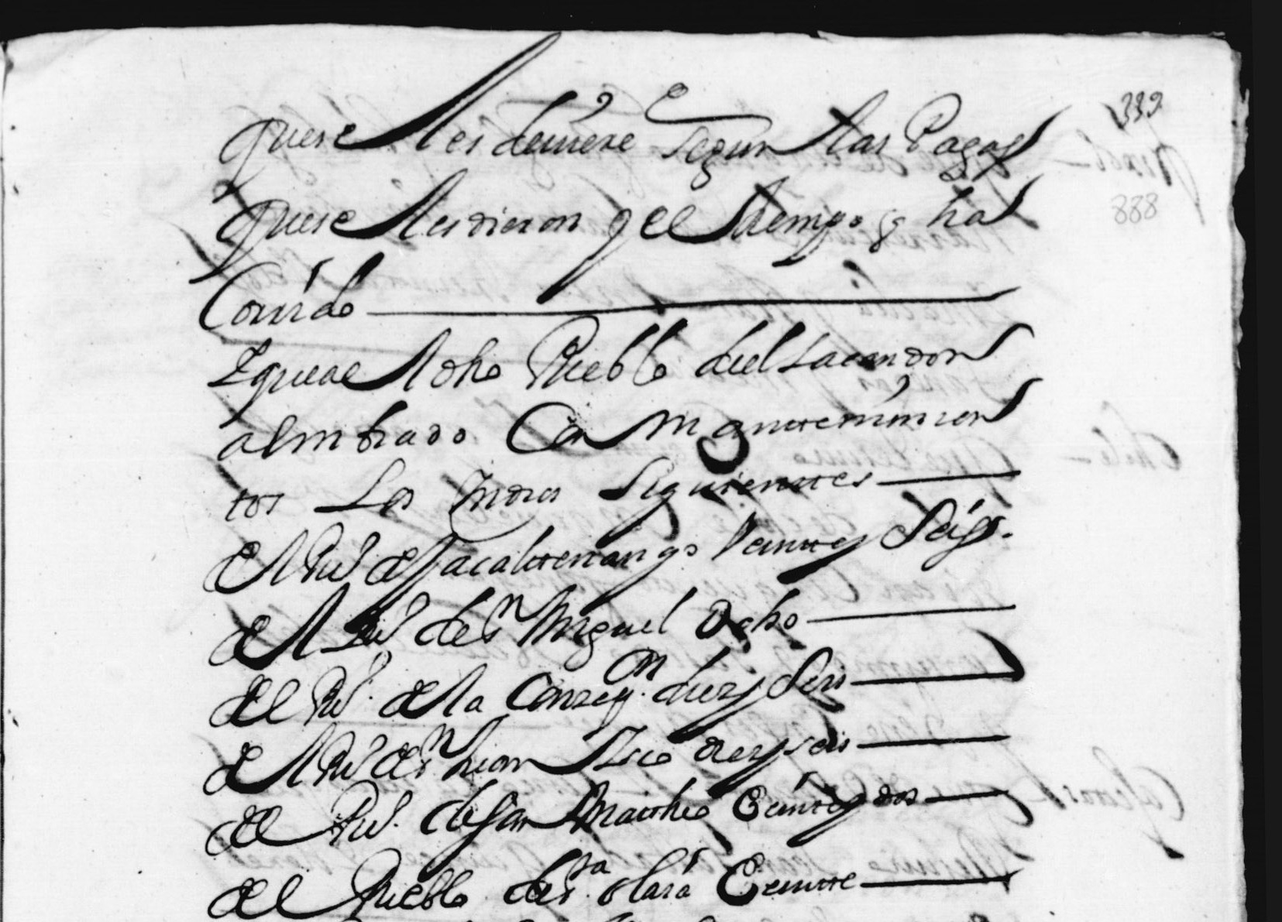lacandon: (777, 322, 1034, 373)
